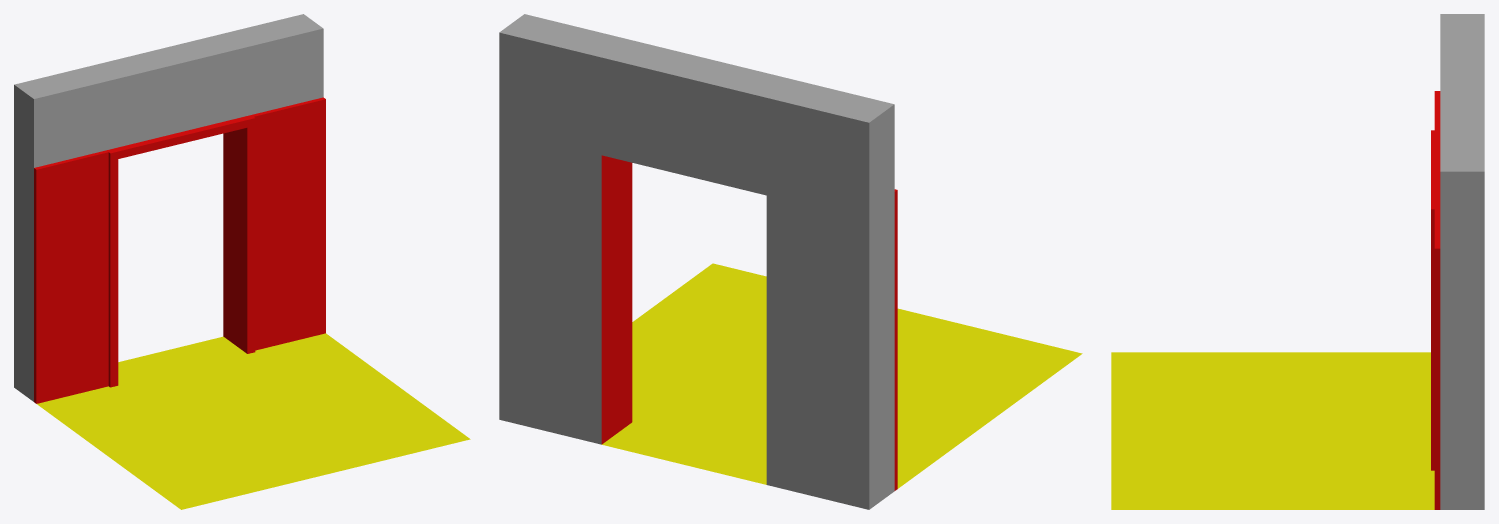
The model's file is slimdoor.fbx.
The picture shows the model from 3 angles, left to right: view 1: azimuth 30°, elevation 25°; view 2: azimuth 150°, elevation 25°; view 3: azimuth 270°, elevation 25°; orthographic projection. The views are drawn at different scales.
Visible parts, largest first — view 1: slimdoor_MESH; view 2: slimdoor_MESH; view 3: slimdoor_MESH.
Part boxes in pixels (x1,y1,x2,y2): slimdoor_MESH: (14,14,470,509); slimdoor_MESH: (499,14,1082,509); slimdoor_MESH: (1111,14,1484,509).
Size of the model in its own units: 200 by 200 by 200.
